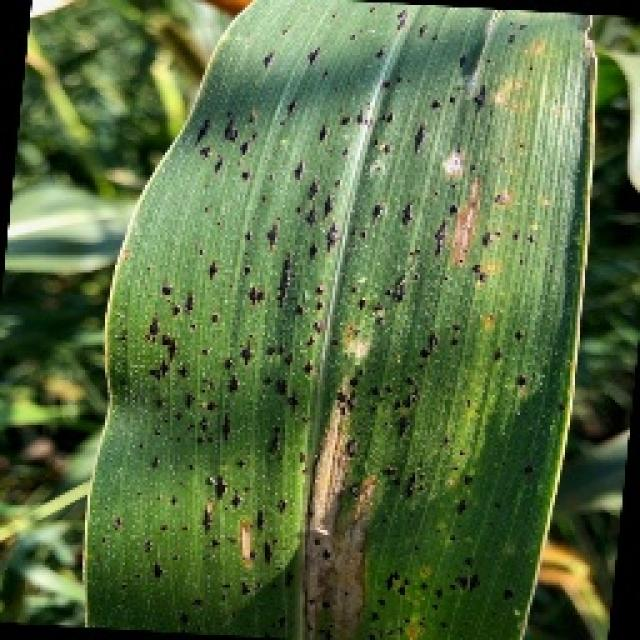Tar_Spot: (150, 98, 433, 596)
